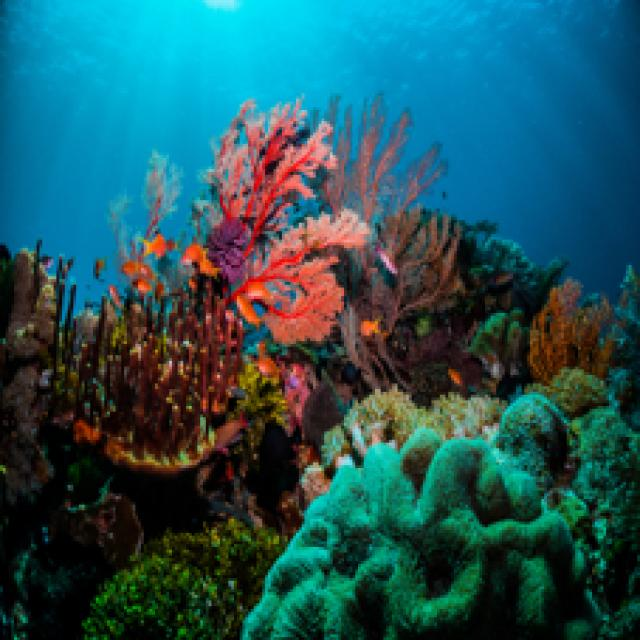Healthy: (243, 430, 599, 638), (1, 252, 243, 489), (207, 102, 368, 342), (325, 97, 458, 387), (86, 520, 286, 638), (531, 280, 613, 379)
